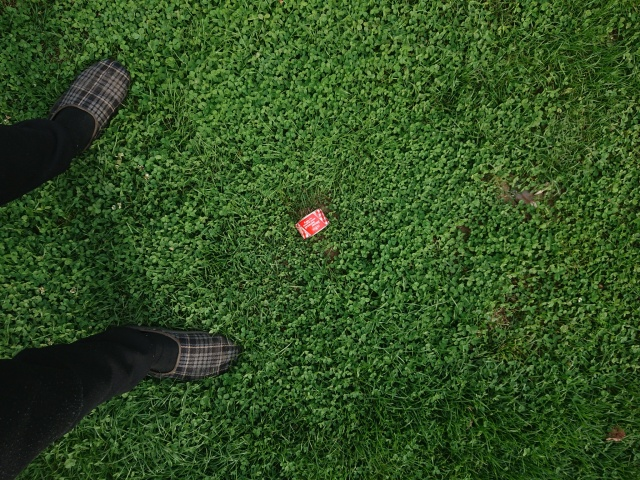Podravka Luncheon Meat 150g: (293, 206, 331, 241)
